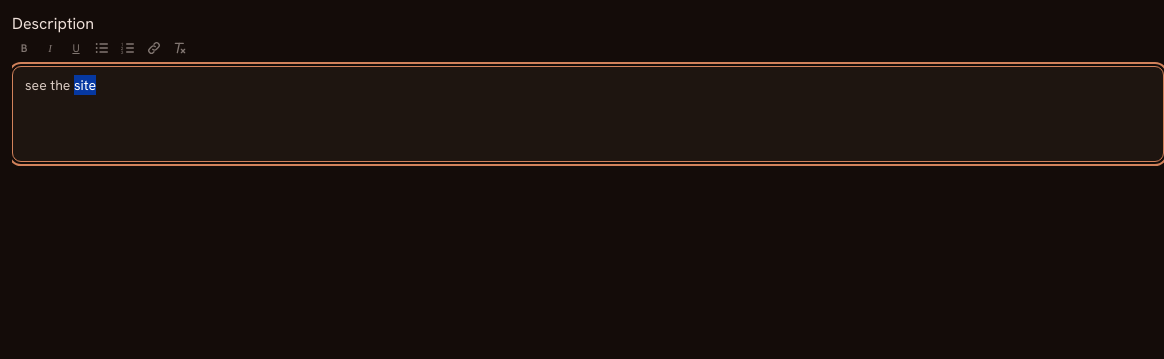
Test: DescriptionEditor's link panel › links_the_selection_to_what_was_typed
Press k in the field named "Description", box [12,66,1163,162]
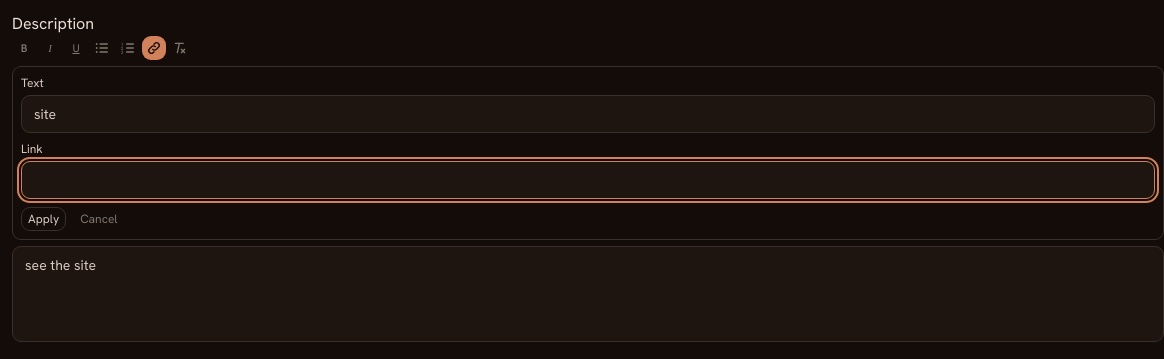
expect the field labelled "Text" holds "site": met, box [21,95,1155,133]
expect the button named "Link" is expanded: met, box [142,36,166,60]
Type "example.com" into the field labelled "Link" at (588, 180), box [21,161,1155,199]
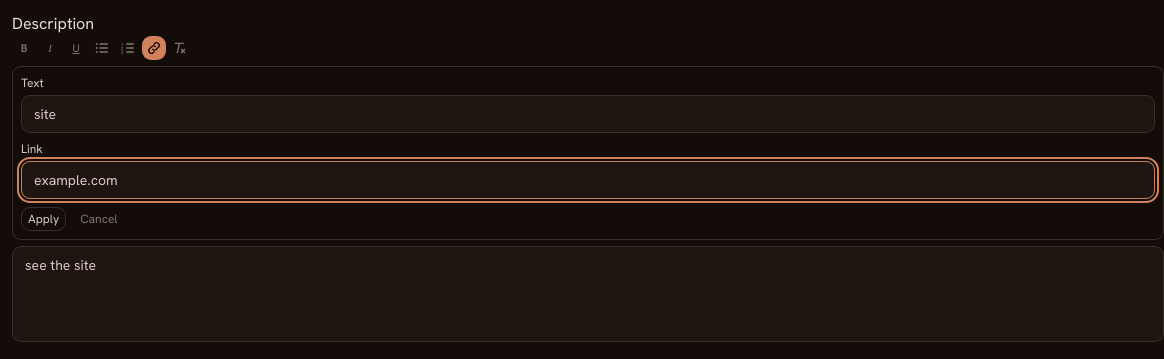
Click the button "Apply" at (44, 219), box [21,207,66,231]
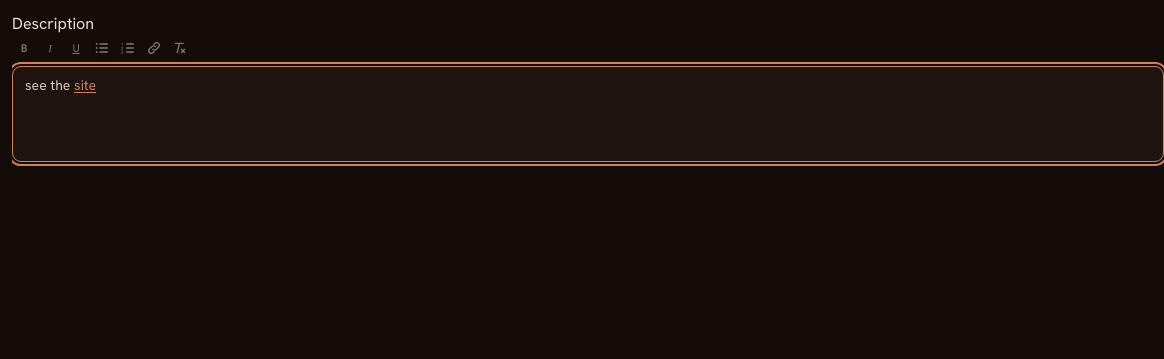
expect the label "Link" is gone: met
